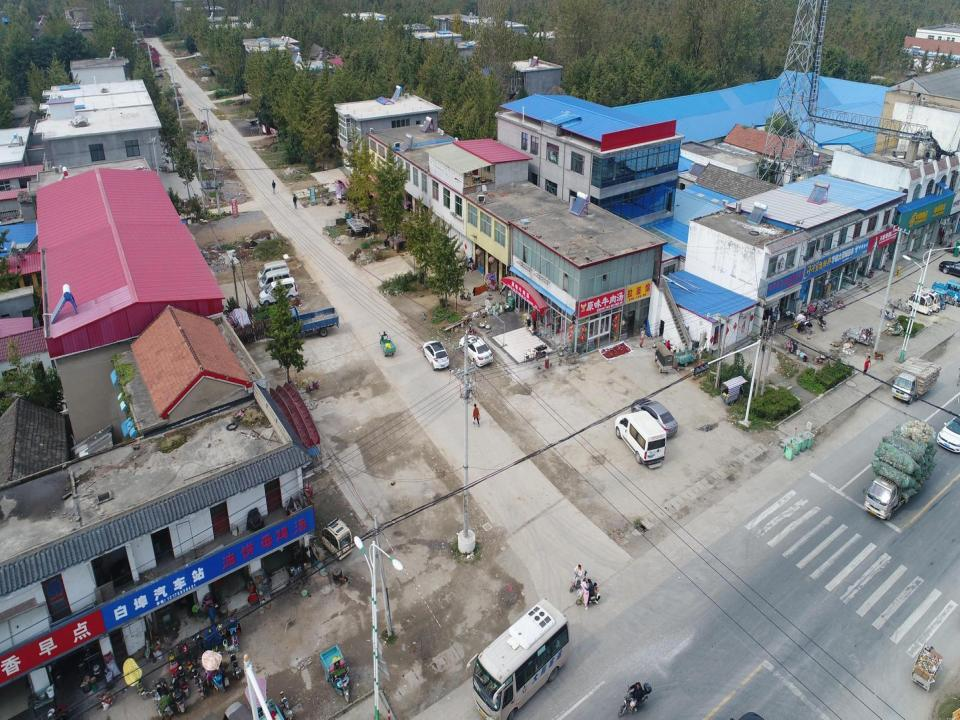bus: (466, 597, 569, 719)
car: (629, 396, 678, 438), (258, 275, 299, 305), (459, 334, 493, 367), (422, 338, 450, 371)
truck: (861, 422, 925, 521), (280, 302, 342, 342), (892, 361, 925, 405), (142, 48, 161, 70), (138, 41, 156, 63), (164, 93, 184, 110)
van: (613, 410, 667, 469), (257, 267, 292, 294), (255, 259, 288, 283)
